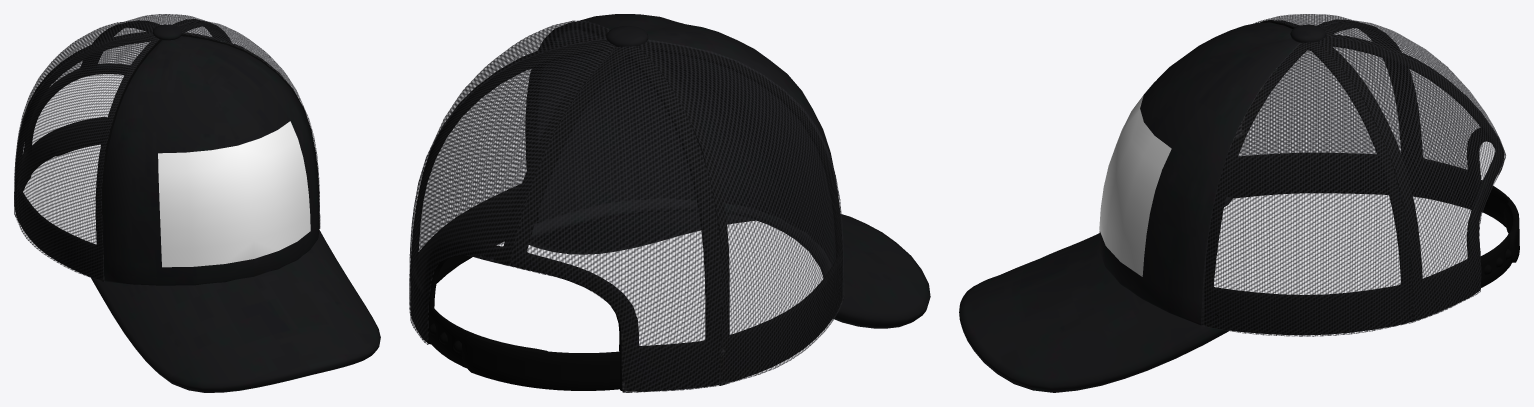
File: cap_webshop.glb
3 renders of one model, left to right at view 1: azimuth 30°, elevation 25°; view 2: azimuth 150°, elevation 25°; view 3: azimuth 270°, elevation 25°, orthographic. The views are drawn at different scales.
Visible parts, largest first — view 1: Cap_Body, Print_Area_Front; view 2: Cap_Body; view 3: Cap_Body, Print_Area_Front.
Part boxes in pixels (left/top/right/bottom): Cap_Body: left=14, top=14, right=380, bottom=392; Print_Area_Front: left=158, top=121, right=310, bottom=267; Cap_Body: left=409, top=14, right=930, bottom=392; Cap_Body: left=959, top=14, right=1519, bottom=392; Print_Area_Front: left=1099, top=82, right=1171, bottom=276.
Size of the model in its own units: 1.75 by 1.71 by 2.83.
2 materials, 1 textured.
